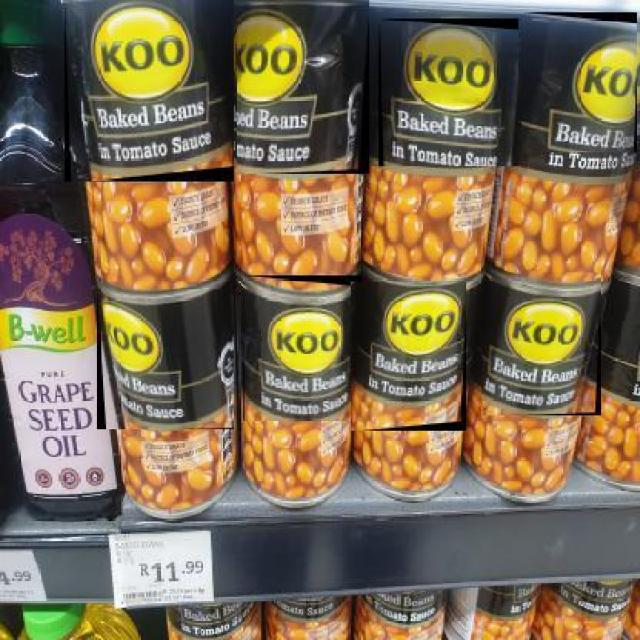Beans: (64, 0, 236, 183), (237, 0, 371, 175), (378, 19, 520, 168), (97, 289, 235, 431), (350, 282, 468, 432), (244, 276, 364, 422), (482, 272, 602, 417), (522, 12, 638, 154)
